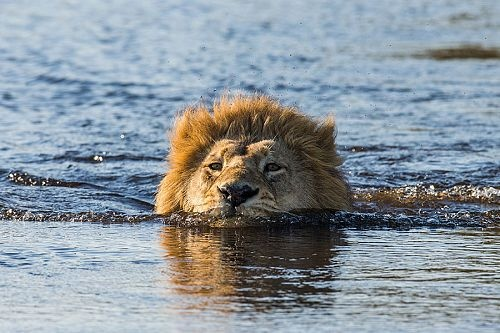lion: (152, 84, 363, 232)
